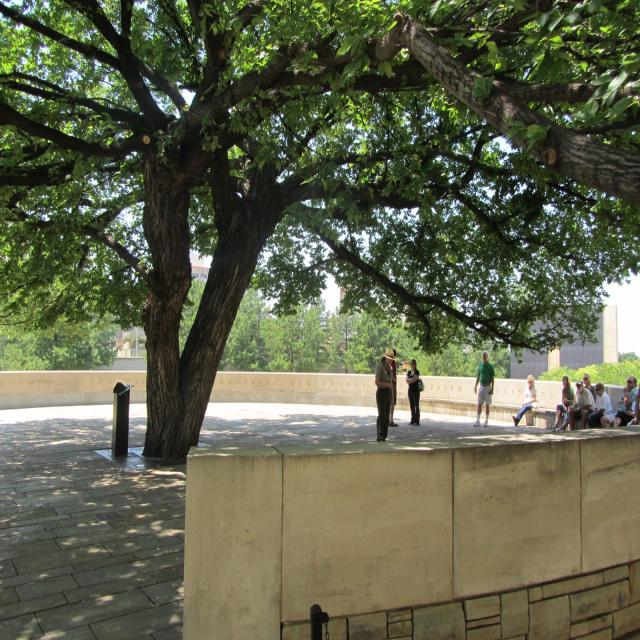body: (552, 372, 595, 433), (374, 347, 396, 444), (472, 348, 495, 428), (606, 375, 638, 429), (568, 379, 597, 432), (512, 374, 539, 427), (551, 375, 575, 430), (406, 358, 425, 426), (587, 382, 613, 428), (388, 348, 399, 427), (628, 383, 640, 428)
